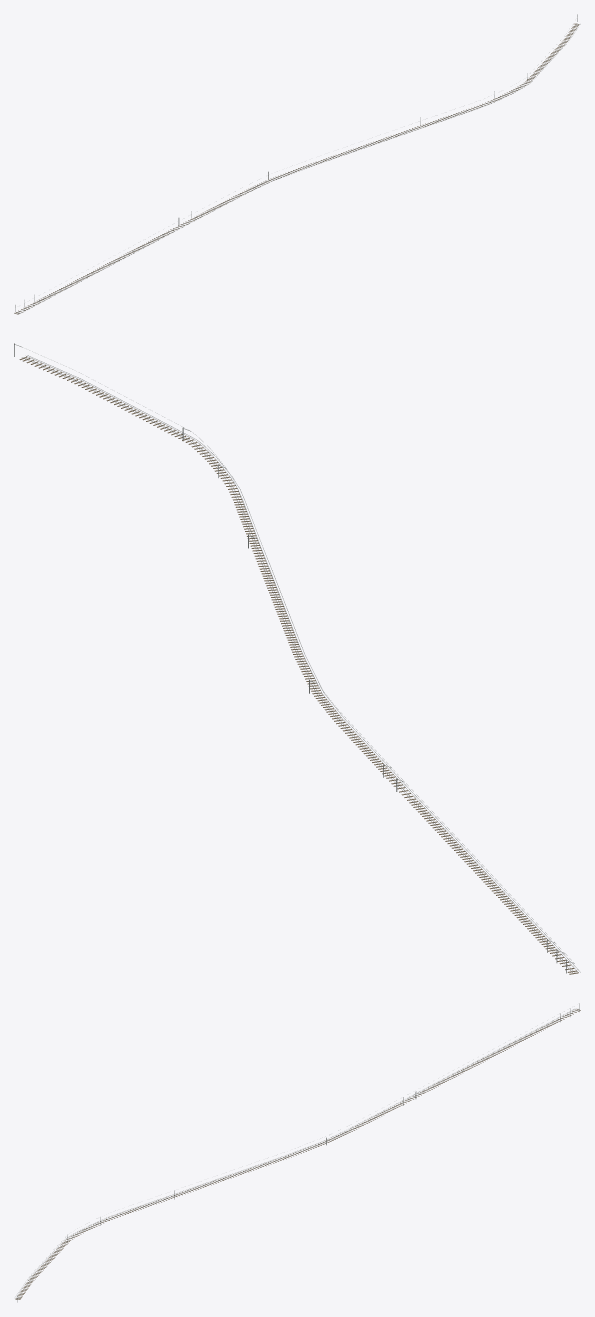
File: ion-track.glb
3 renders of one model, top to bottom at view 1: azimuth 90°, elevation 25°; view 2: azimuth 150°, elevation 25°; view 3: azimuth 270°, elevation 25°, orthographic. The views are drawn at different scales.
Visible parts, largest first — view 1: ion-track-rail-steel, ion-track-timber-detail; view 2: ion-track-timber-detail, ion-track-rail-steel; view 3: ion-track-rail-steel, ion-track-timber-detail.
Part boxes in pixels (box(x1,y1,x2,y2)): ion-track-rail-steel: box(15, 14, 580, 314); ion-track-timber-detail: box(14, 23, 579, 314); ion-track-timber-detail: box(19, 356, 578, 974); ion-track-rail-steel: box(14, 343, 580, 973); ion-track-rail-steel: box(15, 1003, 579, 1302); ion-track-timber-detail: box(15, 1009, 580, 1299).
Size of the model in its own units: 28.3 by 0.349 by 23.09.
